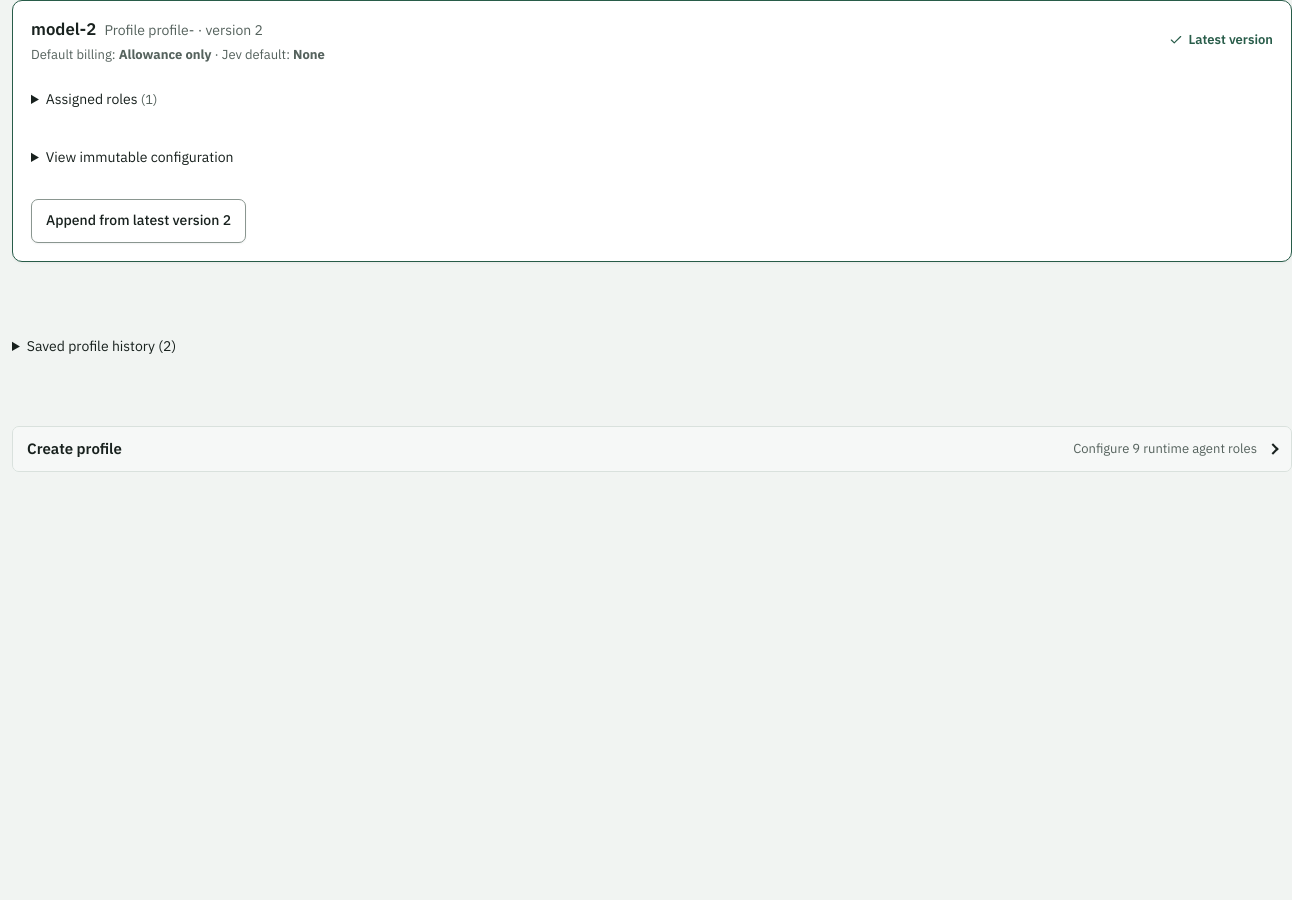
keeps historical versions visible and labels them immutable
The width and height of the screenshot is (1292, 900).
Click the heading "Saved profile history (2)" at (101, 346), box [27,337,176,355]
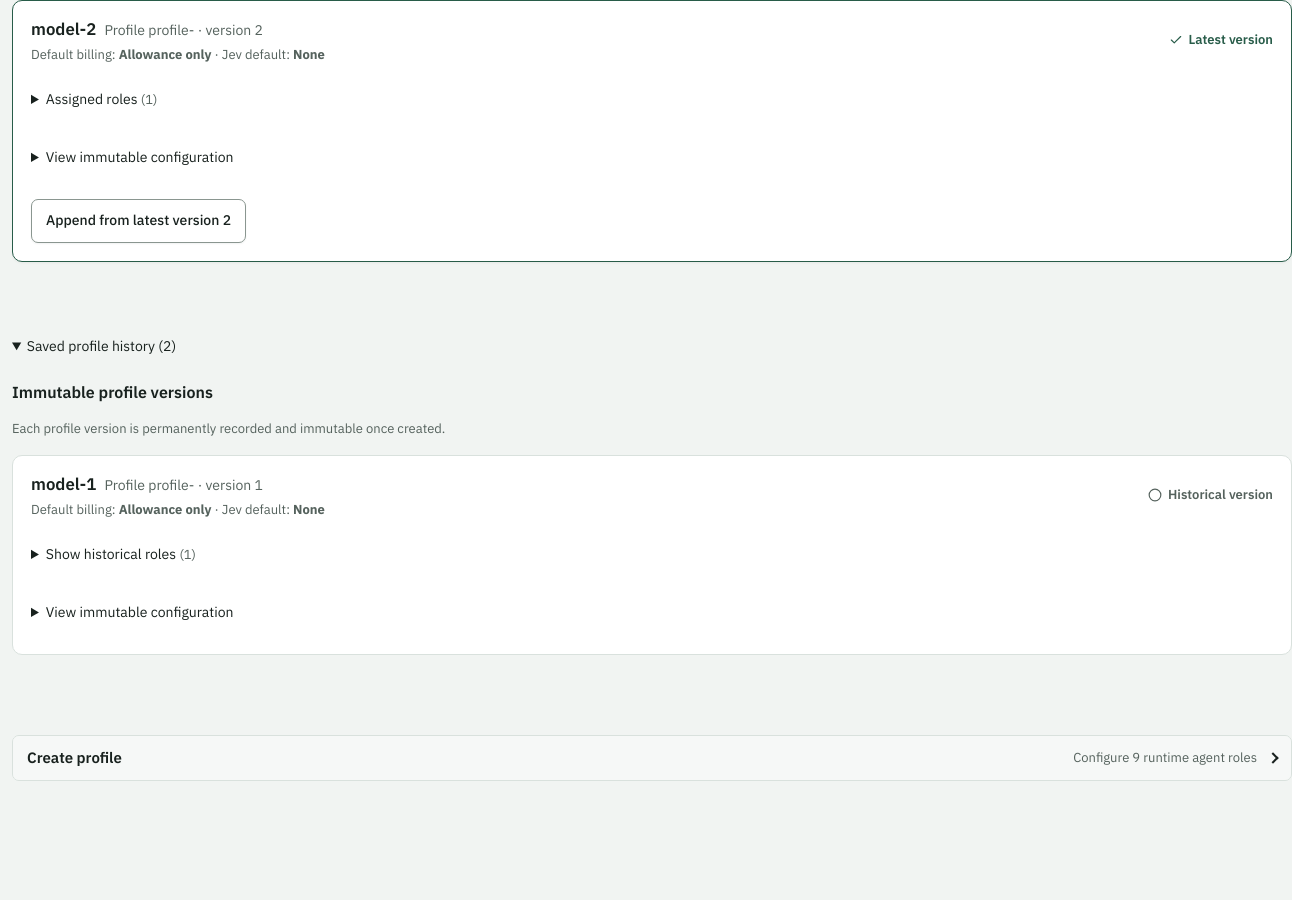
Expected: the heading "model-2Profile profile- · version 2" is shown, [31,19,263,41]
Expected: the heading "model-1Profile profile- · version 1" is shown, [31,474,263,496]
Expected: the number of headings "View immutable configuration" is 2, [46,148,234,166]; [46,603,234,621]
